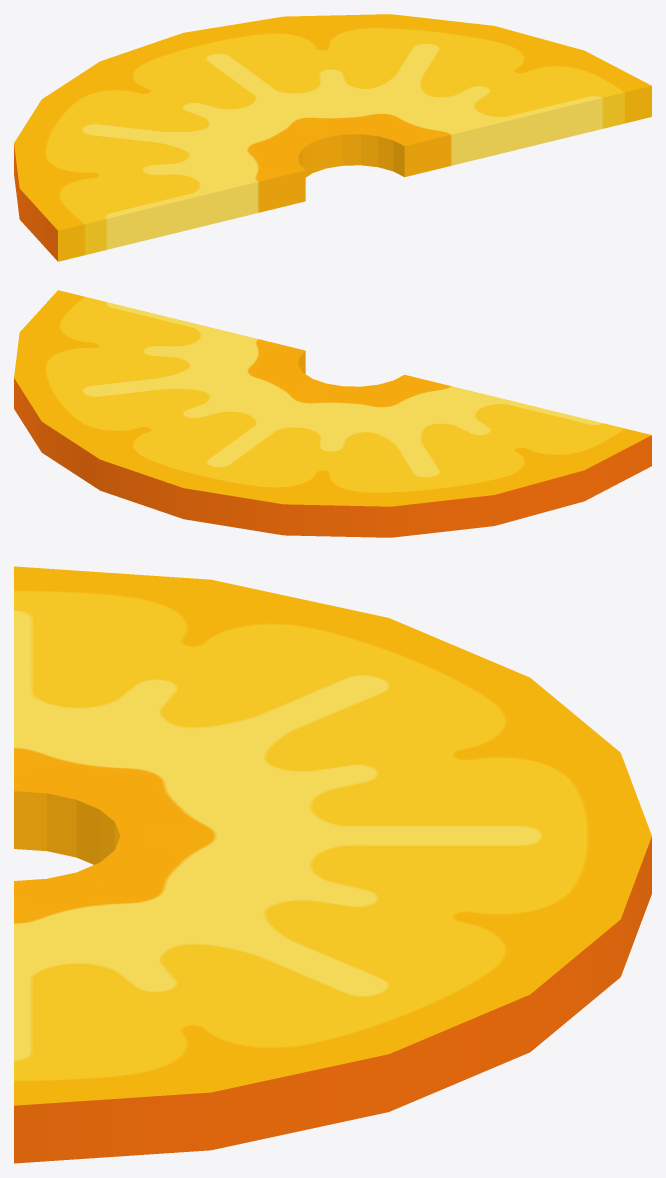
File: Pineapple_Slice_Pineapple_0.glb
3 views of the same model, one above another, from view 1: azimuth 30°, elevation 25°; view 2: azimuth 150°, elevation 25°; view 3: azimuth 270°, elevation 25° (orthographic). The views are drawn at different scales.
Visible parts, largest first — view 1: Pineapple_Slice_Pineapple_0; view 2: Pineapple_Slice_Pineapple_0; view 3: Pineapple_Slice_Pineapple_0.
Boxes of the visible parts, left/top/right/bottom form: Pineapple_Slice_Pineapple_0: left=14, top=14, right=651, bottom=261; Pineapple_Slice_Pineapple_0: left=14, top=290, right=651, bottom=537; Pineapple_Slice_Pineapple_0: left=14, top=566, right=651, bottom=1163.
Size of the model in its own units: 0.2 by 0.01 by 0.1.
Materials: 1 (1 with a texture image).
